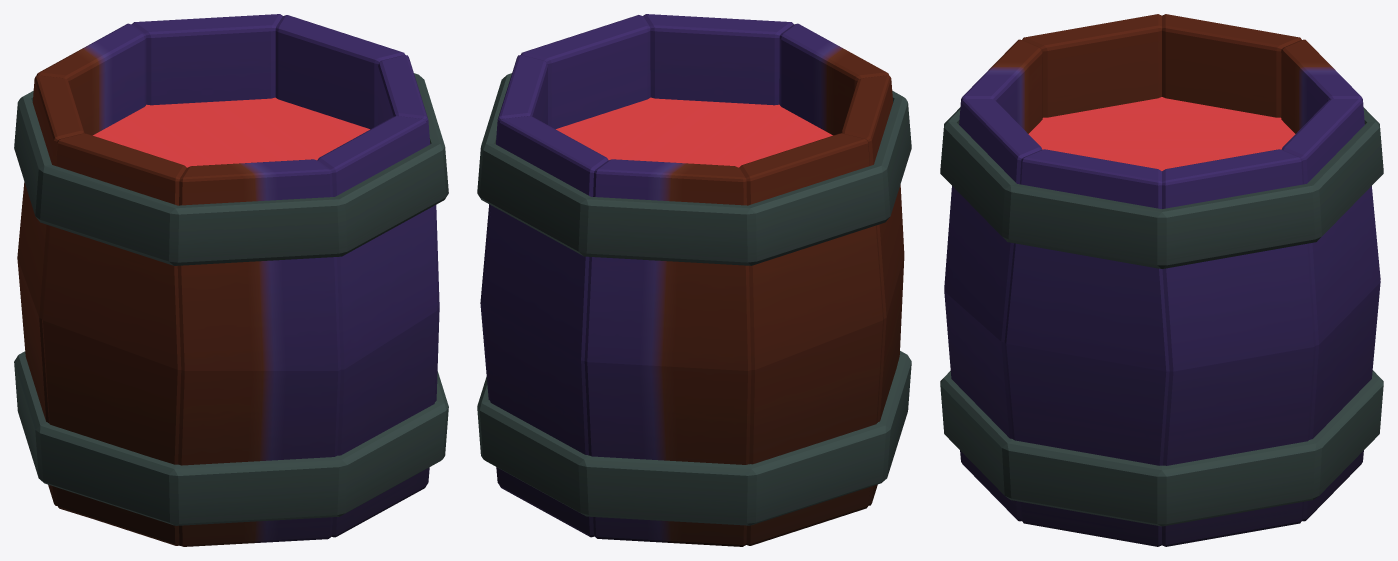
The model's file is FBX_BarrelOpenRedWine.fbx.
The picture shows the model from 3 angles, left to right: view 1: azimuth 30°, elevation 25°; view 2: azimuth 150°, elevation 25°; view 3: azimuth 270°, elevation 25°; orthographic projection.
Visible parts, largest first — view 1: M_BarrelOpenRedWine; view 2: M_BarrelOpenRedWine; view 3: M_BarrelOpenRedWine.
Boxes of the visible parts, left/top/right/bottom form: M_BarrelOpenRedWine: left=14, top=14, right=448, bottom=546; M_BarrelOpenRedWine: left=477, top=14, right=911, bottom=546; M_BarrelOpenRedWine: left=940, top=14, right=1383, bottom=546.
Size of the model in its own units: 2.19 by 2 by 2.19.
